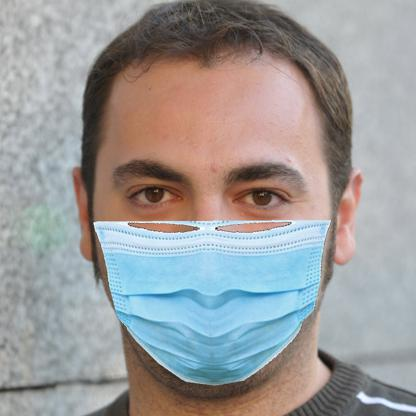mask: (93, 219, 329, 387)
